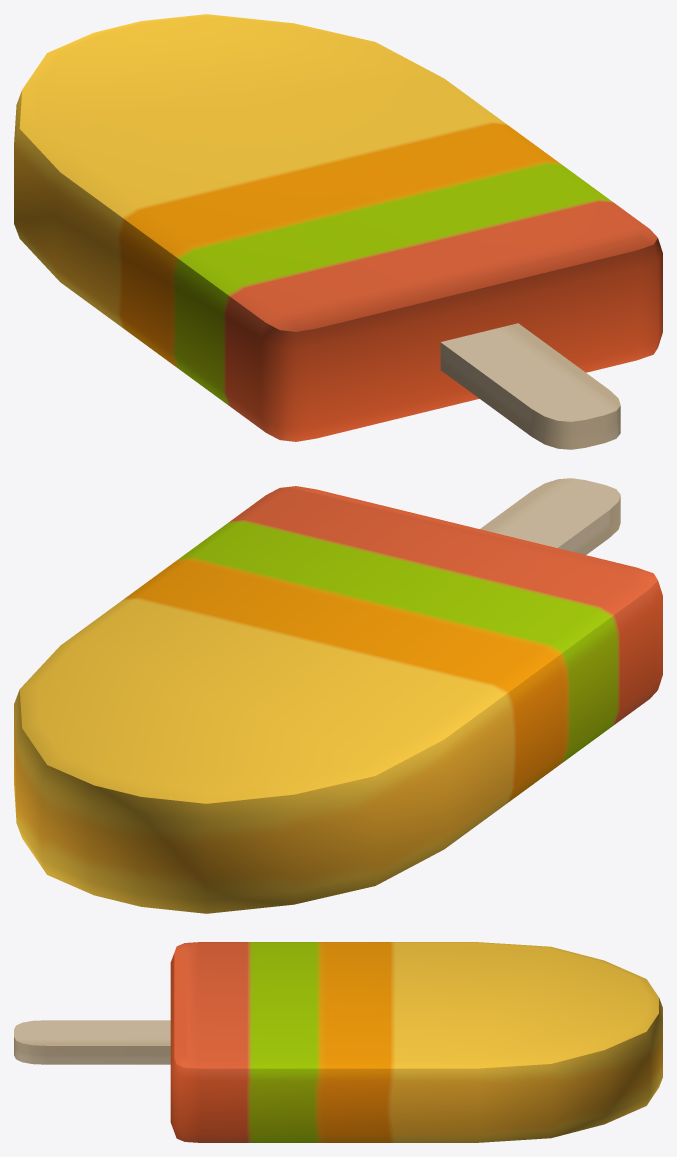
The model's file is Icecream.FBX.
3 views of the same model, one above another, from view 1: azimuth 30°, elevation 25°; view 2: azimuth 150°, elevation 25°; view 3: azimuth 270°, elevation 25° (orthographic). The views are drawn at different scales.
Parts seen in each view (by area): view 1: IceCream; view 2: IceCream; view 3: IceCream.
Boxes of the visible parts, <box> form: IceCream: <box>14,14,662,449</box>; IceCream: <box>14,478,662,913</box>; IceCream: <box>14,942,662,1142</box>.
Size of the model in its own units: 92.73 by 27.05 by 196.
